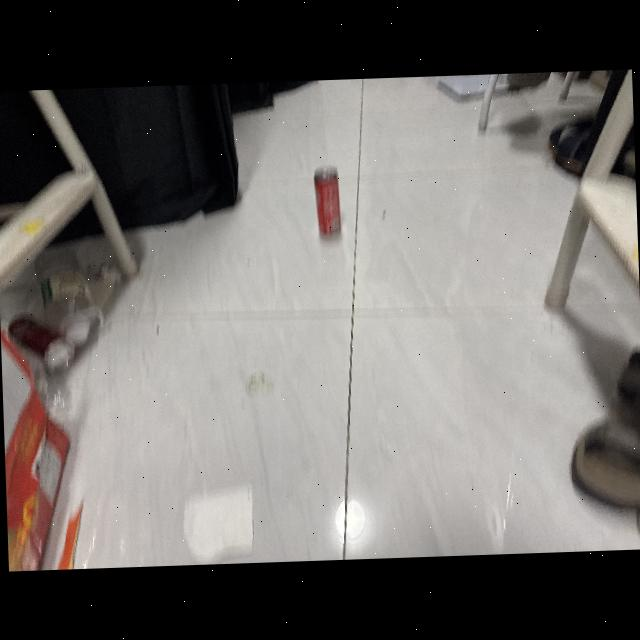Cola: (308, 162, 346, 240)
